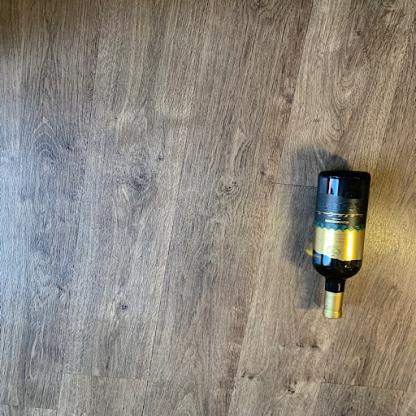trash: (305, 168, 373, 322)
